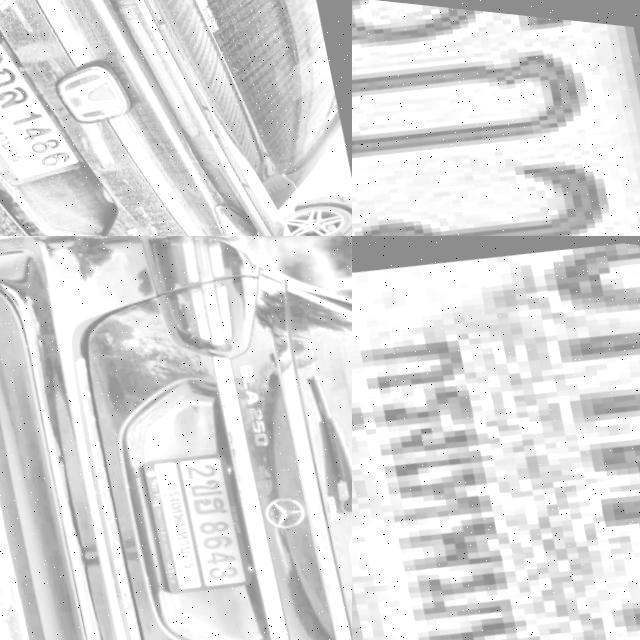license-plate: (352, 236, 640, 640), (352, 0, 640, 236), (140, 436, 263, 596), (0, 4, 92, 198)
